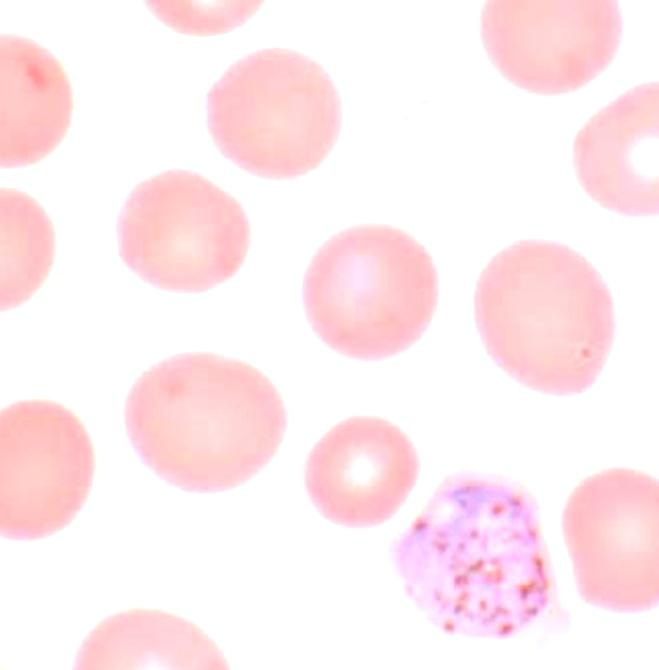Infected: (394, 470, 568, 643)
Uninfected: (126, 351, 285, 491), (476, 239, 613, 398), (302, 223, 437, 360), (206, 48, 341, 176), (116, 170, 248, 294), (561, 467, 659, 612), (479, 0, 625, 95), (302, 416, 419, 526), (0, 401, 92, 540), (574, 85, 659, 215)
